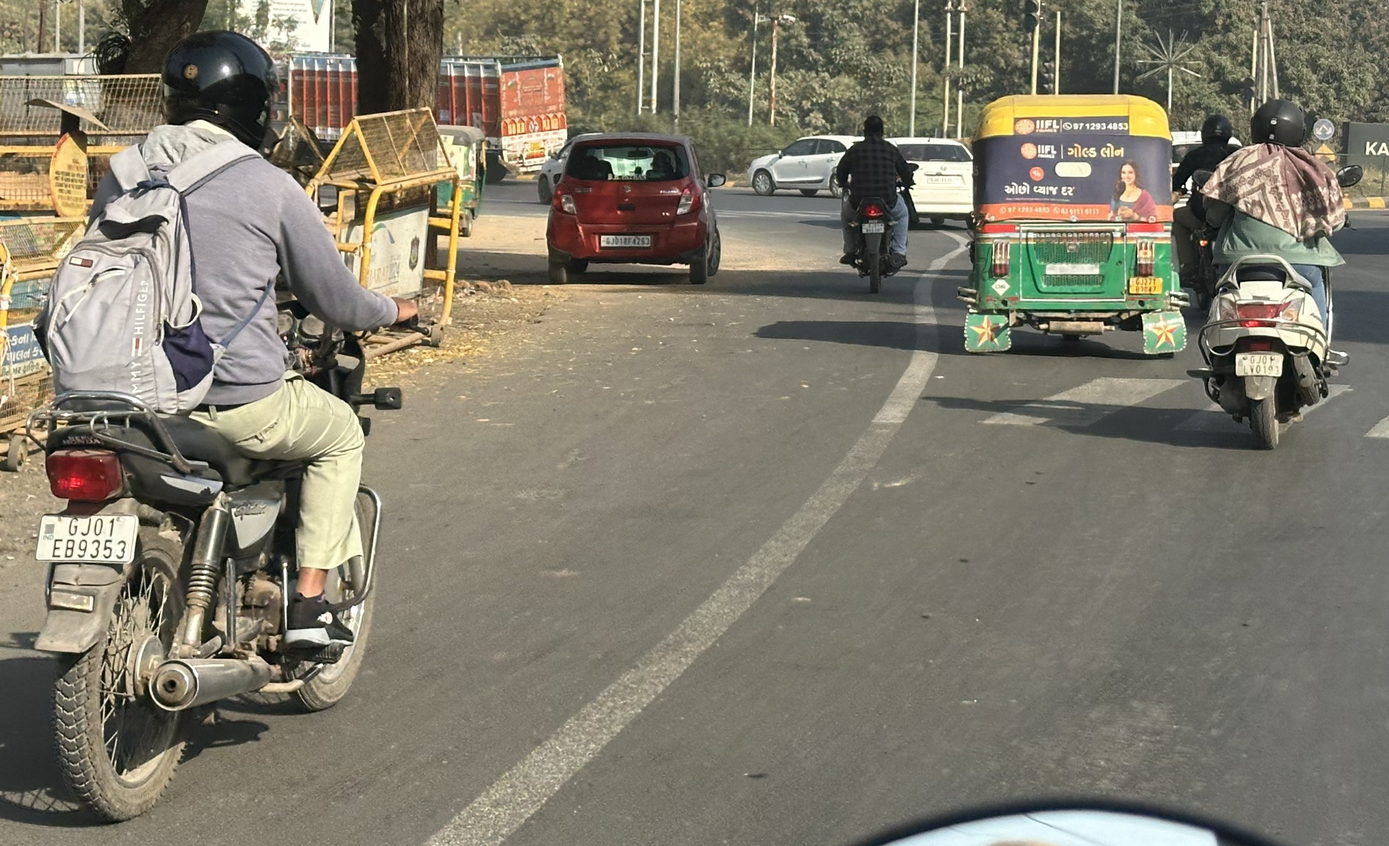BikeWithRider: (25, 25, 443, 827), (1189, 95, 1359, 460), (824, 106, 917, 286), (1179, 107, 1248, 254)
Helmet: (155, 29, 283, 152), (1252, 99, 1313, 153), (1197, 110, 1234, 153)
NoHelmet: (859, 110, 889, 146)
